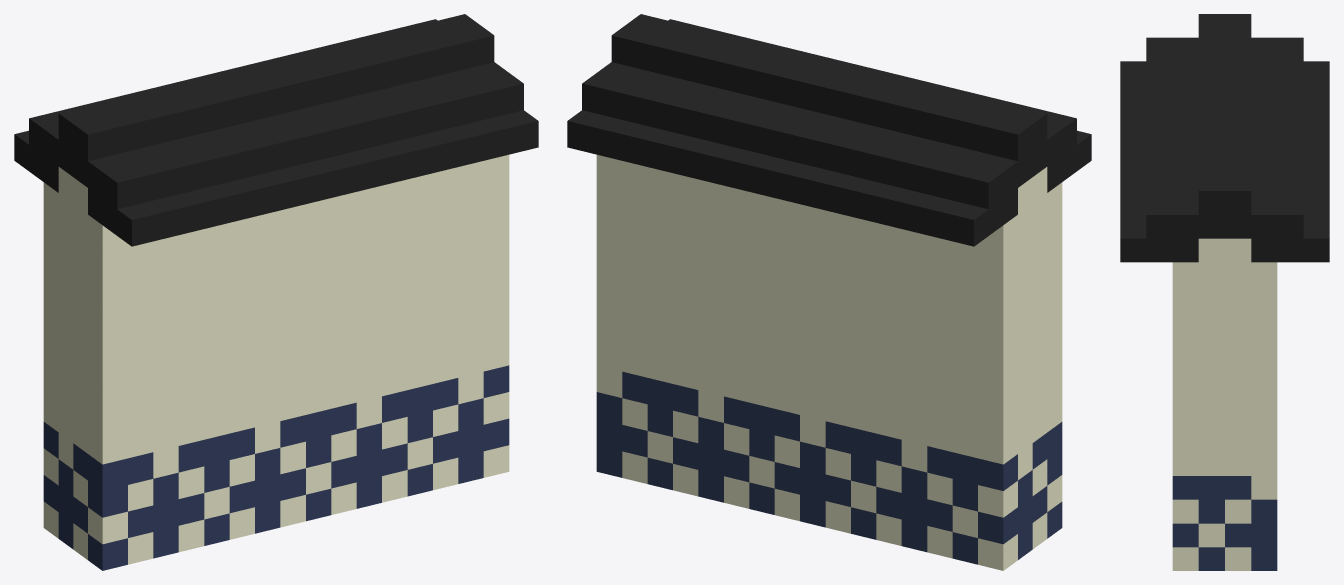
The model's file is kabe.obj.
3 renders of one model, left to right at view 1: azimuth 30°, elevation 25°; view 2: azimuth 150°, elevation 25°; view 3: azimuth 270°, elevation 25°, orthographic. The views are drawn at different scales.
Bounding box in the file's own units: 1.6 × 1.6 × 0.8.
1 material, 1 textured.
